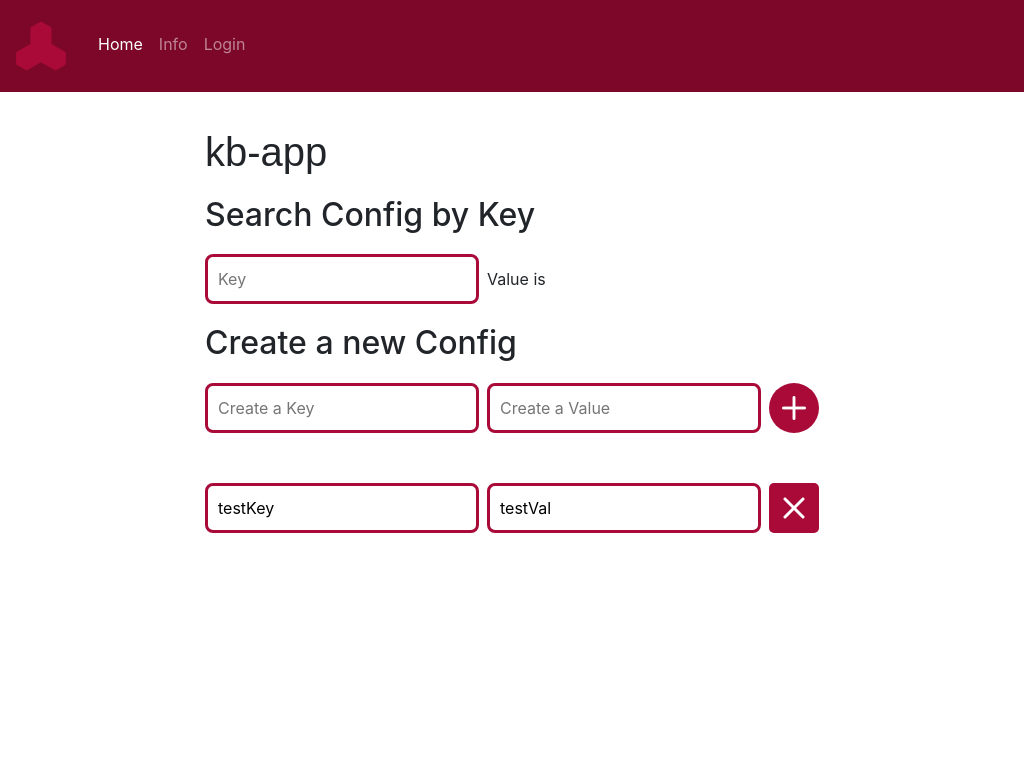
Test case: component testing › should not find non-existing config
Type "unknownKey" into the field with id "keyInputSearch" at [342, 279], box [205, 254, 479, 304]
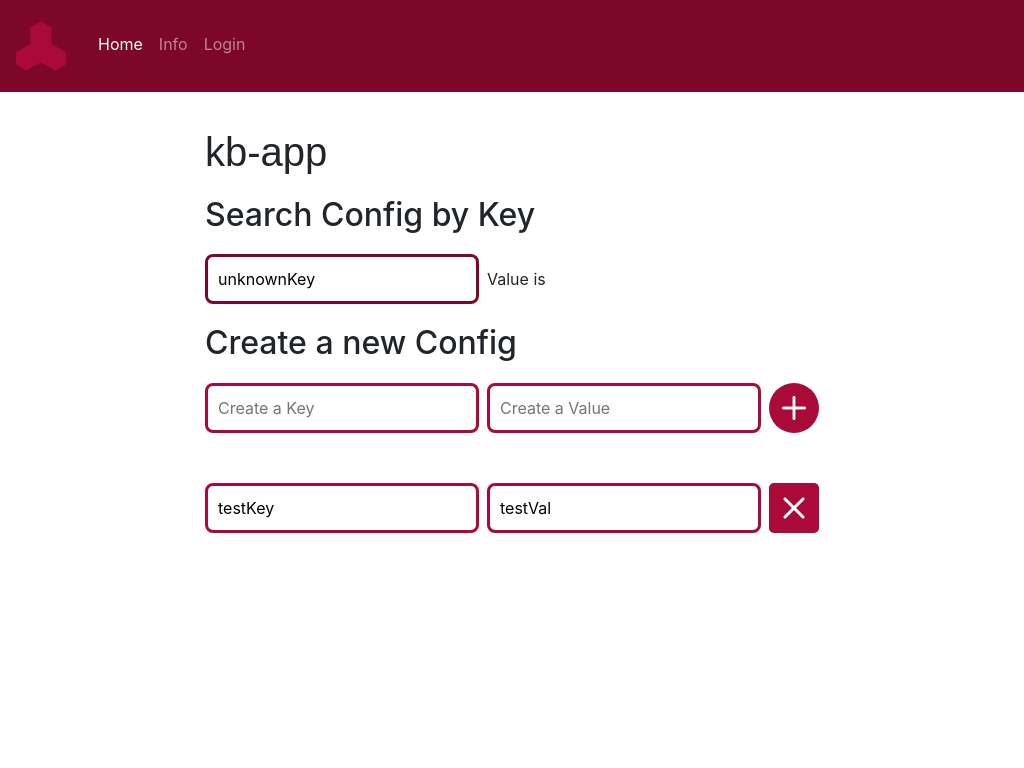
Press Enter in the field with id "keyInputSearch", box [205, 254, 479, 304]
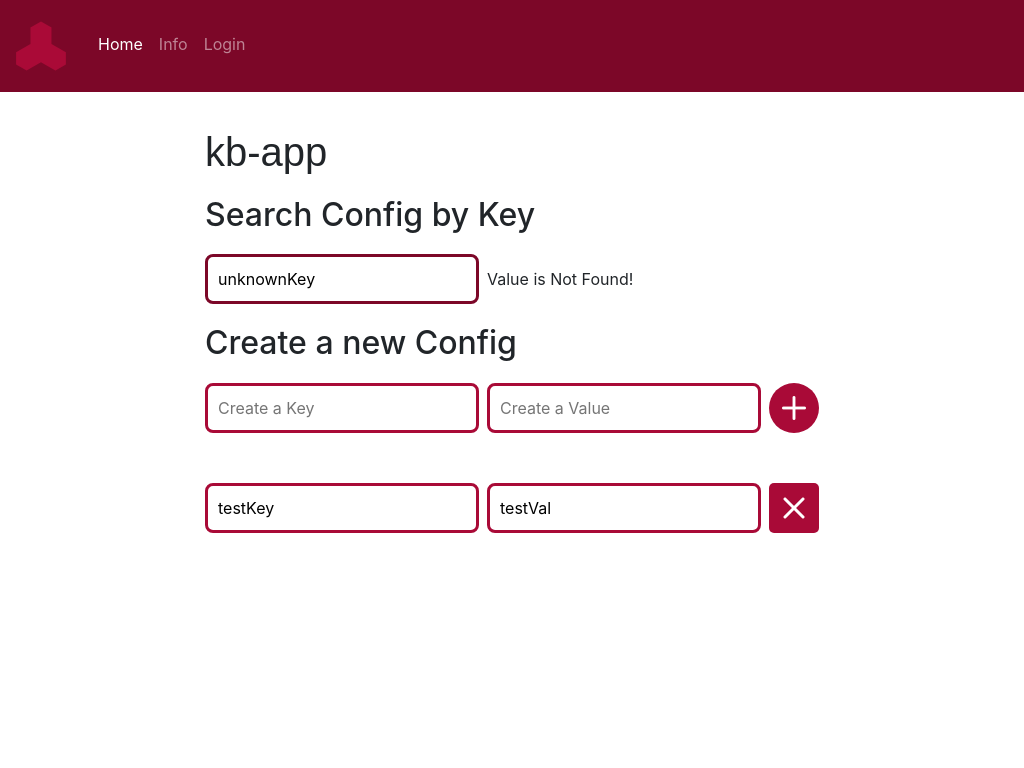
Expected: the text "Not Found!" is shown, [487, 269, 633, 289]
